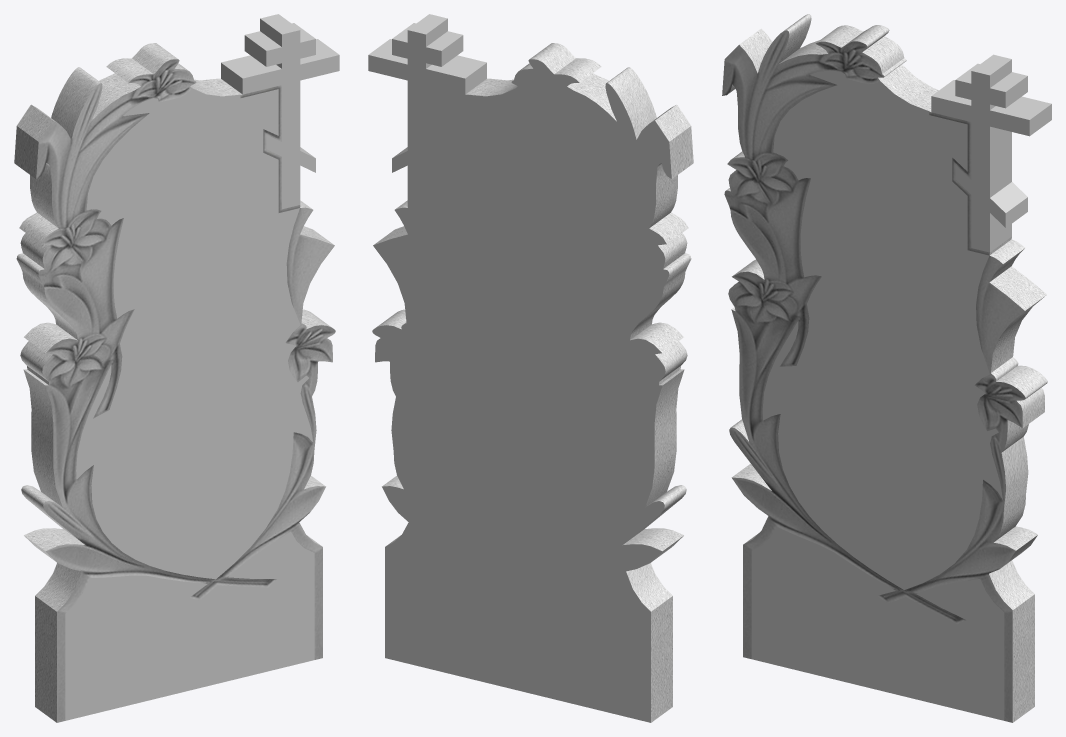
Rendered from cn9716f614a9_tkf.glb.
The picture shows the model from 3 angles, left to right: view 1: azimuth 30°, elevation 25°; view 2: azimuth 150°, elevation 25°; view 3: azimuth 330°, elevation 25°; orthographic projection.
Parts seen in each view (by area): view 1: Pam-d01-160, Pam-d01-160_2_notexture; view 2: Pam-d01-160, Pam-d01-160_2_notexture; view 3: Pam-d01-160, Pam-d01-160_2_notexture.
Part boxes in pixels (x1=…): Pam-d01-160: x1=65, y1=14, x2=339, y2=720; Pam-d01-160_2_notexture: x1=14, y1=43, x2=335, y2=722; Pam-d01-160: x1=368, y1=14, x2=671, y2=722; Pam-d01-160_2_notexture: x1=373, y1=43, x2=693, y2=722; Pam-d01-160: x1=751, y1=54, x2=1051, y2=720; Pam-d01-160_2_notexture: x1=722, y1=14, x2=1047, y2=722.
Size of the model in its own units: 0.4 by 0.8 by 0.05.
Materials: 1 (1 with a texture image).
